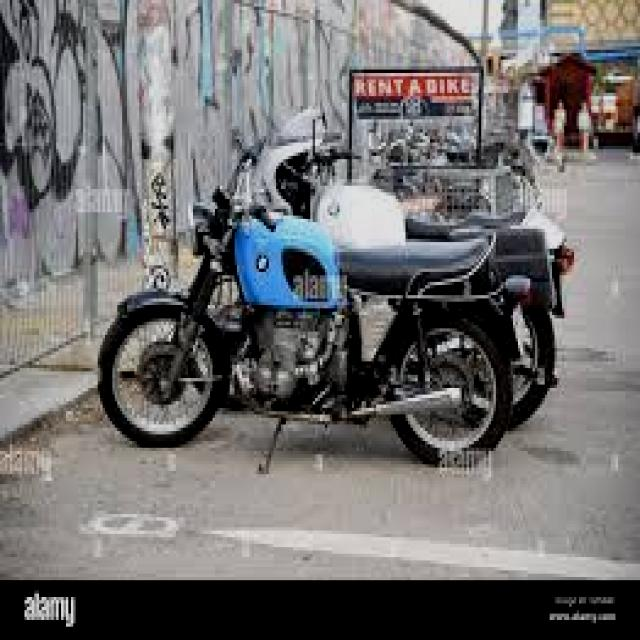MOTORCYCLE: (100, 220, 565, 461)
